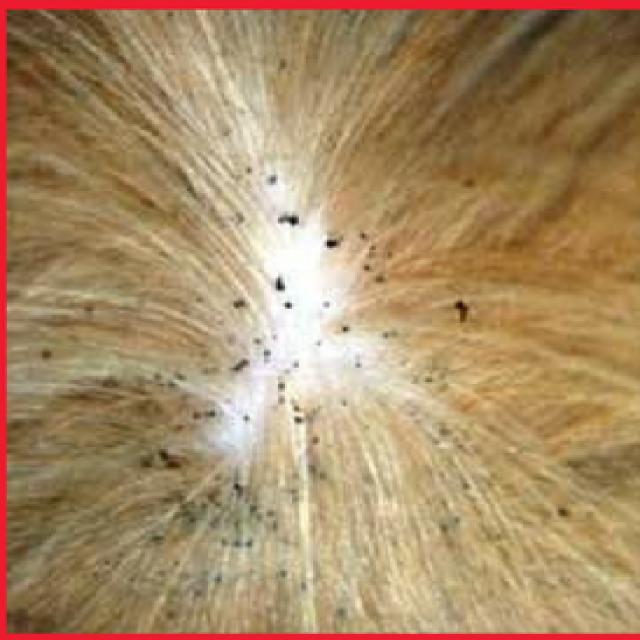di ung bo chet: (30, 96, 640, 594)
